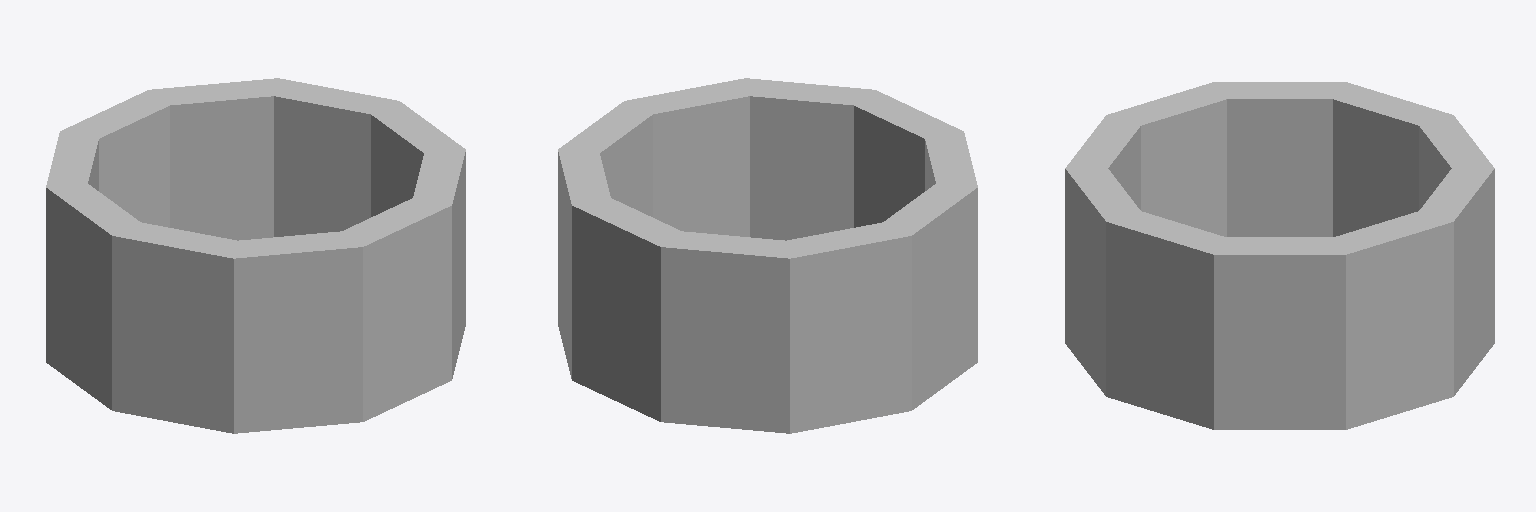
The model's file is test_gate3.obj.
The picture shows the model from 3 angles: view 1: azimuth 30°, elevation 25°; view 2: azimuth 150°, elevation 25°; view 3: azimuth 270°, elevation 25°; orthographic projection.
Parts seen in each view (by area): view 1: Cylinder; view 2: Cylinder; view 3: Cylinder.
Boxes of the visible parts, x1,y1,x2,y2 form: Cylinder: [46, 78, 465, 433]; Cylinder: [558, 78, 977, 433]; Cylinder: [1065, 82, 1494, 429].
Bounding box in the file's own units: 1.9 × 0.9 × 2.